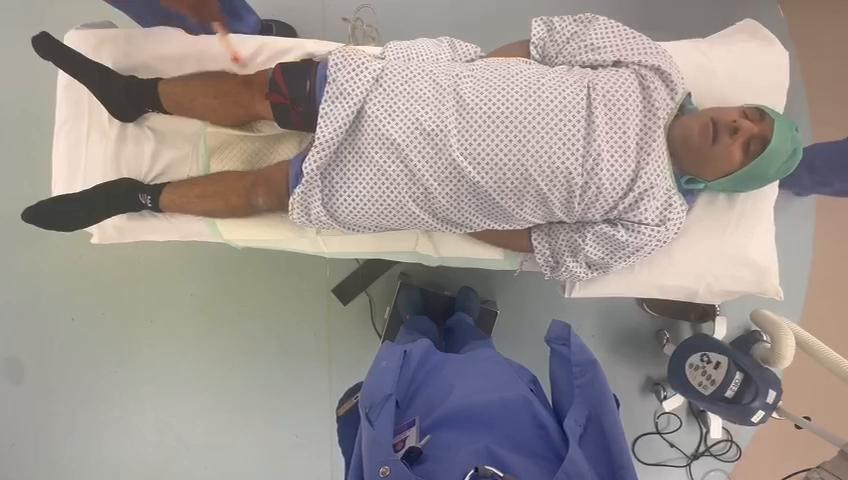bed: (23, 15, 802, 304)
patient: (22, 15, 802, 279)
prepstick: (213, 22, 242, 65)
tourniquet: (267, 60, 316, 131)
